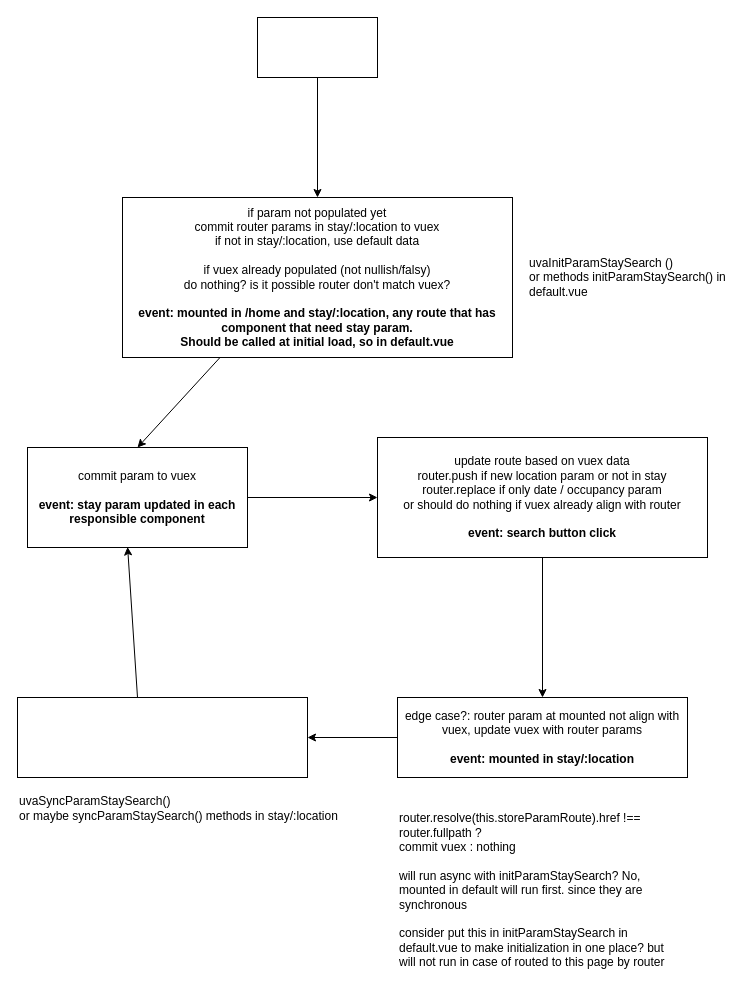
Some shapes in this 755 by 1005 pixel diagram are drawn without their labels. Here are the shapes that lost their labels. From the top down, the centre of each, then its label:
At point 317,47: "Initial vuex state nullish / falsy data".
At point 162,737: "update vuex from router params event: watch $route in stay/:location".
